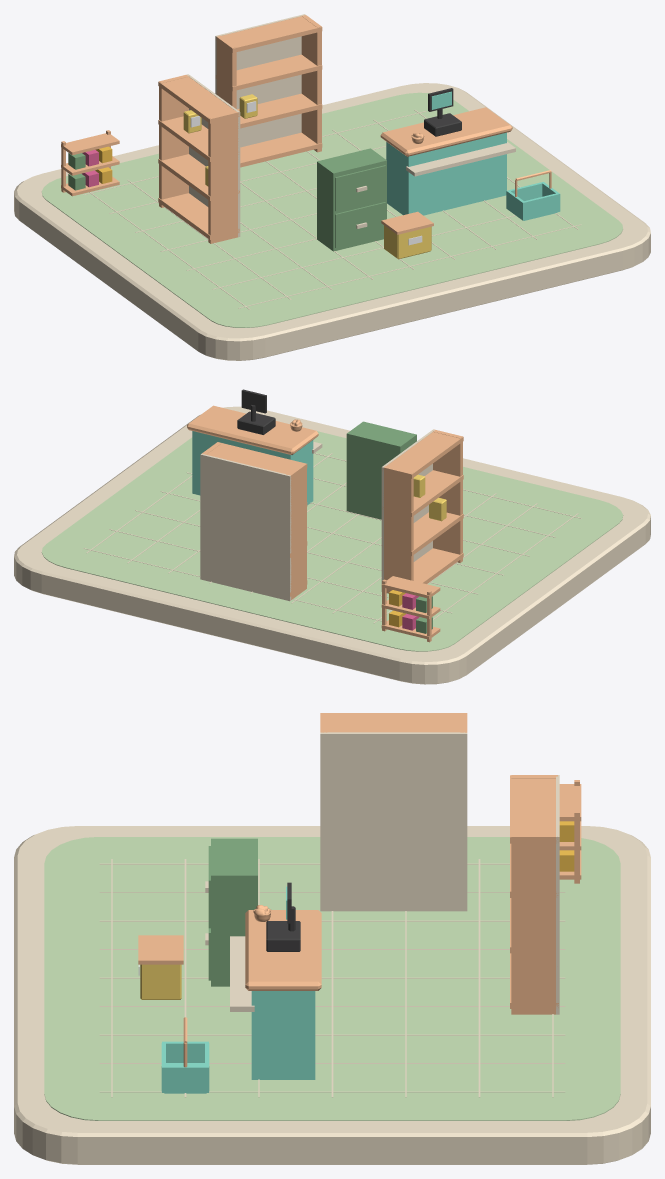
File: room.fbx
The picture shows the model from 3 angles, top to bottom: view 1: azimuth 30°, elevation 25°; view 2: azimuth 150°, elevation 25°; view 3: azimuth 270°, elevation 25°; orthographic projection. The views are drawn at different scales.
Visible parts, largest first — view 1: COM-02 Floor Surface, COM-01 Rounded Base Direct, Counter body, Cabinet, Back.001, Side.001, Countertop, Side, Side.003, Shelf.007, Shelf.006, Shelf.003 (+13 smaller); view 2: COM-02 Floor Surface, COM-01 Rounded Base Direct, Back.001, Cabinet, Side, Countertop, Side.002, Side.001, Counter body, Shelf.003, Shelf.007, Shelf.001 (+6 smaller); view 3: COM-02 Floor Surface, COM-01 Rounded Base Direct, Back, Side.003, Counter body, Cabinet, Countertop, Shelf.007, Shelf.003, Box, Lid, Visitor shelf (+8 smaller).
Boxes of the visible parts, x1,y1,x2,y2 form: COM-02 Floor Surface: [41, 92, 622, 327]; COM-01 Rounded Base Direct: [14, 83, 650, 360]; Counter body: [386, 132, 506, 215]; Cabinet: [317, 148, 386, 251]; Back.001: [215, 14, 305, 147]; Side.001: [208, 110, 238, 243]; Countertop: [380, 107, 512, 156]; Side: [159, 75, 189, 207]; Side.003: [301, 15, 321, 152]; Shelf.007: [216, 16, 322, 52]; Shelf.006: [215, 54, 322, 91]; Shelf.003: [158, 77, 239, 123]; COM-02 Floor Surface: [41, 431, 623, 651]; COM-01 Rounded Base Direct: [14, 406, 650, 684]; Back.001: [200, 453, 291, 601]; Cabinet: [346, 421, 416, 519]; Side: [384, 465, 413, 593]; Countertop: [187, 405, 318, 454]; Side.002: [286, 463, 306, 599]; Side.001: [433, 429, 462, 562]; Counter body: [192, 431, 313, 505]; Shelf.003: [382, 432, 463, 478]; Shelf.007: [206, 442, 307, 474]; Shelf.001: [382, 512, 463, 555]; COM-02 Floor Surface: [44, 837, 620, 1120]; COM-01 Rounded Base Direct: [14, 826, 650, 1164]; Back: [320, 732, 467, 911]; Side.003: [511, 834, 557, 1014]; Counter body: [251, 991, 315, 1079]; Cabinet: [205, 838, 257, 986]; Countertop: [245, 910, 321, 990]; Shelf.007: [510, 775, 558, 843]; Shelf.003: [320, 713, 466, 732]; Box: [140, 964, 181, 999]; Lid: [138, 935, 183, 964]; Visitor shelf: [230, 936, 254, 1011].
Size of the model in its own units: 600 by 190 by 520.
